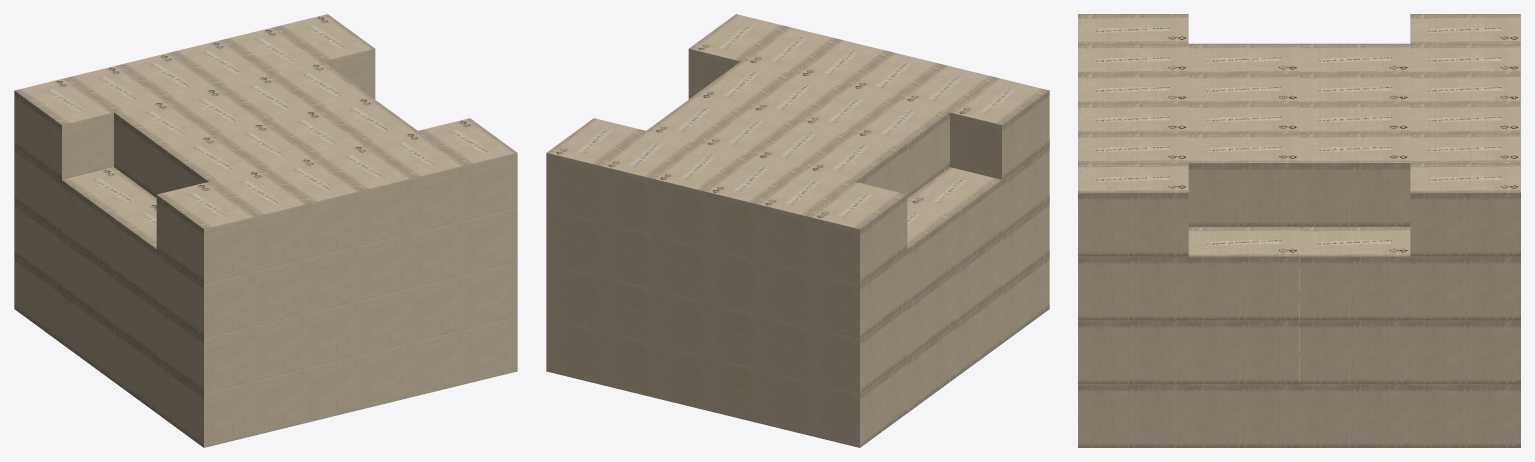
The model's file is sp_cardboard_3.FBX.
The picture shows the model from 3 angles, left to right: view 1: azimuth 30°, elevation 25°; view 2: azimuth 150°, elevation 25°; view 3: azimuth 270°, elevation 25°; orthographic projection. The views are drawn at different scales.
Visible parts, largest first — view 1: sp_cardboard_3; view 2: sp_cardboard_3; view 3: sp_cardboard_3.
Part boxes in pixels (box(x1,y1,x2,y2)): sp_cardboard_3: box(14, 14, 517, 447); sp_cardboard_3: box(546, 14, 1049, 447); sp_cardboard_3: box(1078, 14, 1520, 447).
Size of the model in its own units: 82.68 by 86.61 by 55.12.
